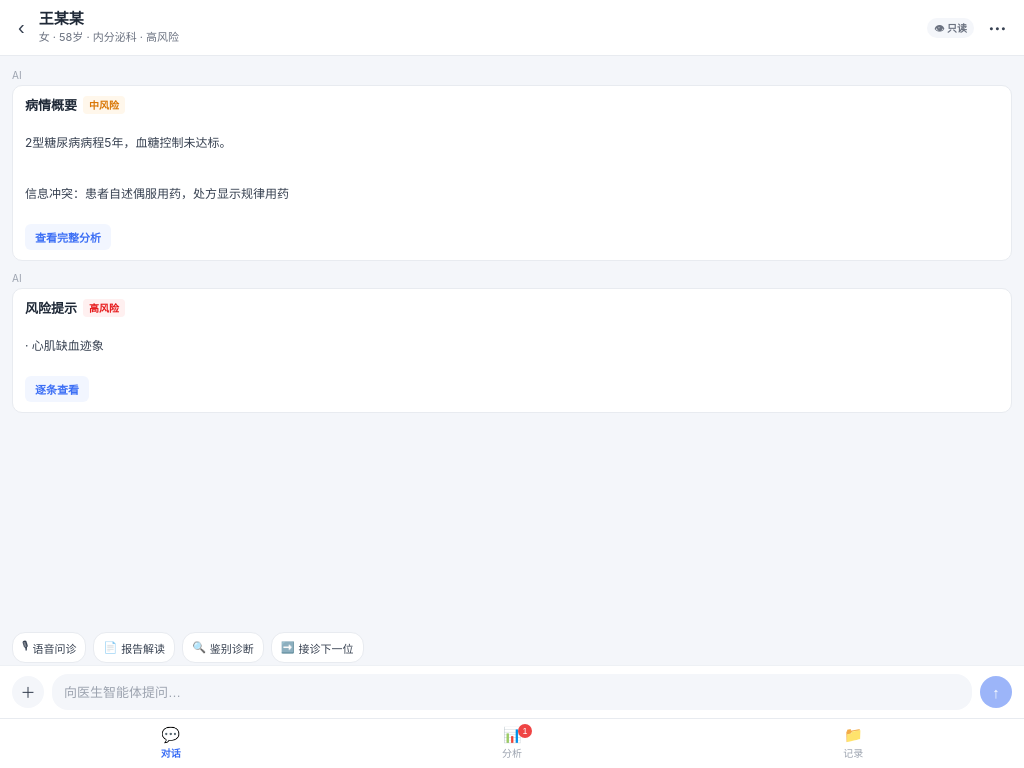
Test case: 移动端工作站 · ＋ 菜单 › 写入类三项列出来但不可点，并标明去处
This screenshot has width=1024, height=768.
Click the button "⋯" at (997, 28), box [982,13,1012,43]
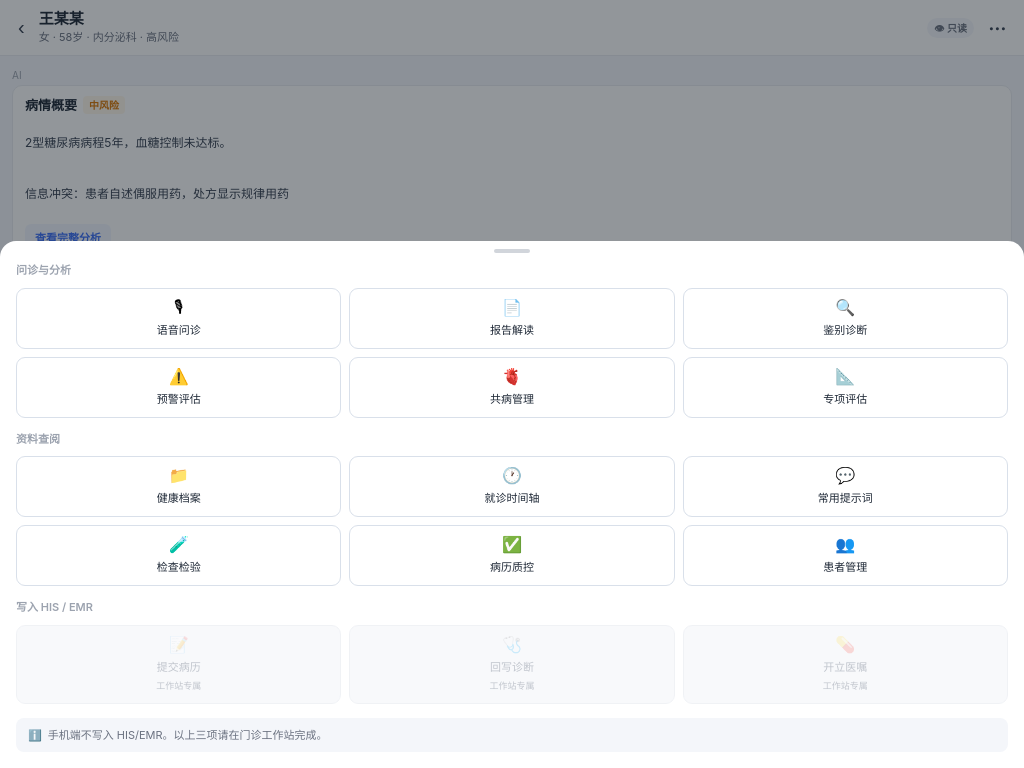
Expected: the button with class "locked" showing "📝 提交病历 工作站专属" is disabled, [16,624,341,704]
Expected: the button with class "locked" showing "🩺 回写诊断 工作站专属" is disabled, [349,624,675,704]
Expected: the button with class "locked" showing "💊 开立医嘱 工作站专属" is disabled, [683,624,1008,704]
